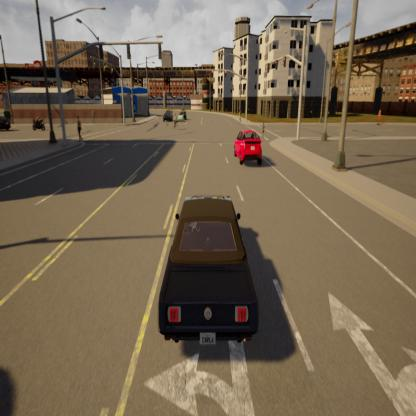Cars: (154, 183, 263, 356), (232, 124, 266, 180), (30, 111, 50, 141), (162, 102, 174, 130), (176, 103, 188, 131), (0, 110, 13, 134)
Pedestrian: (74, 109, 84, 151), (259, 114, 271, 139), (377, 99, 383, 132), (92, 100, 96, 130)
